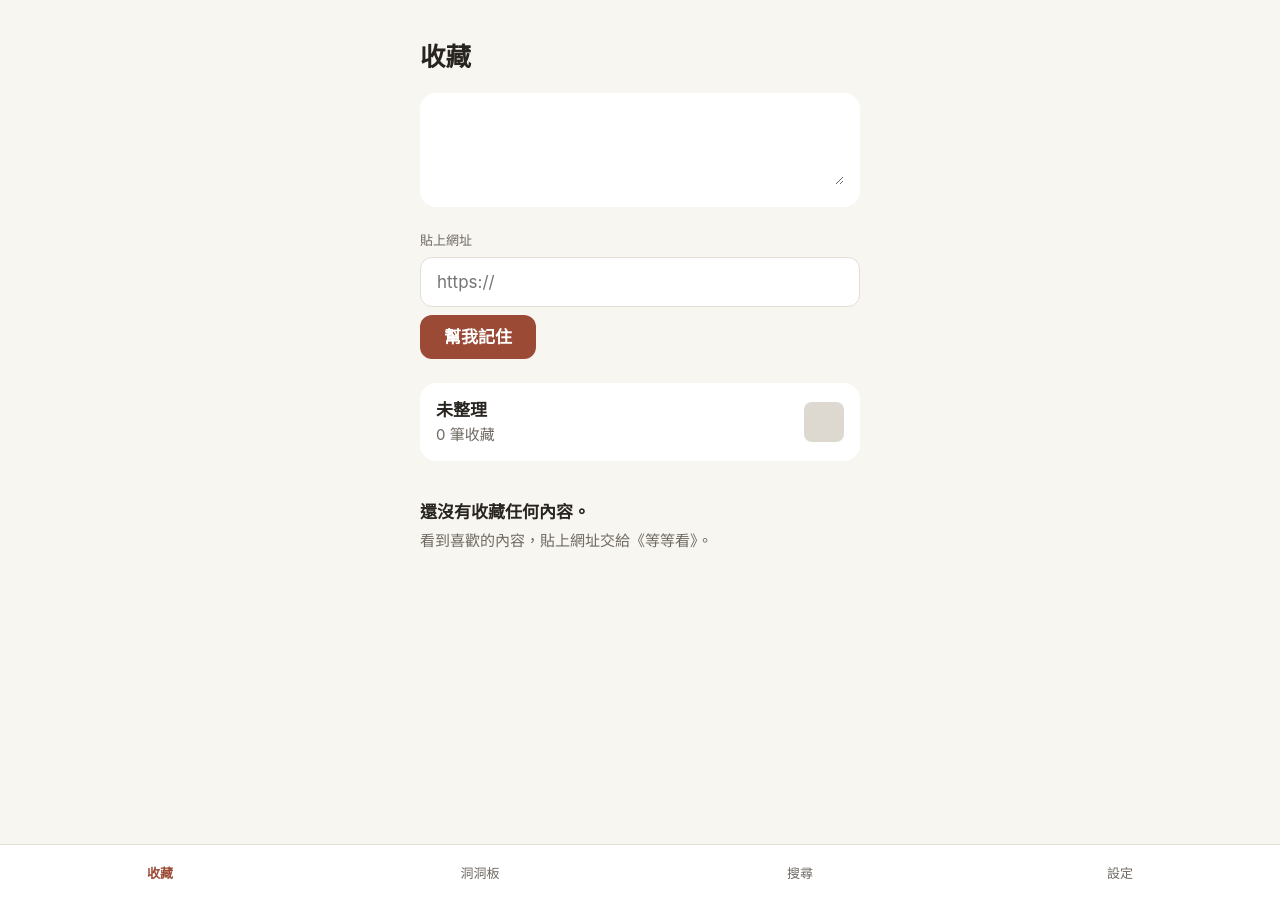
Scenario: Category collection list flow › only lists bookmarks whose categoryId matches the opened category
Check: the text "0 筆收藏" is shown, box [436,425,495,445]
Type "https://example.com/only-in-unorganized" into the field labelled "貼上網址" at (640, 282), box [420,257,860,307]
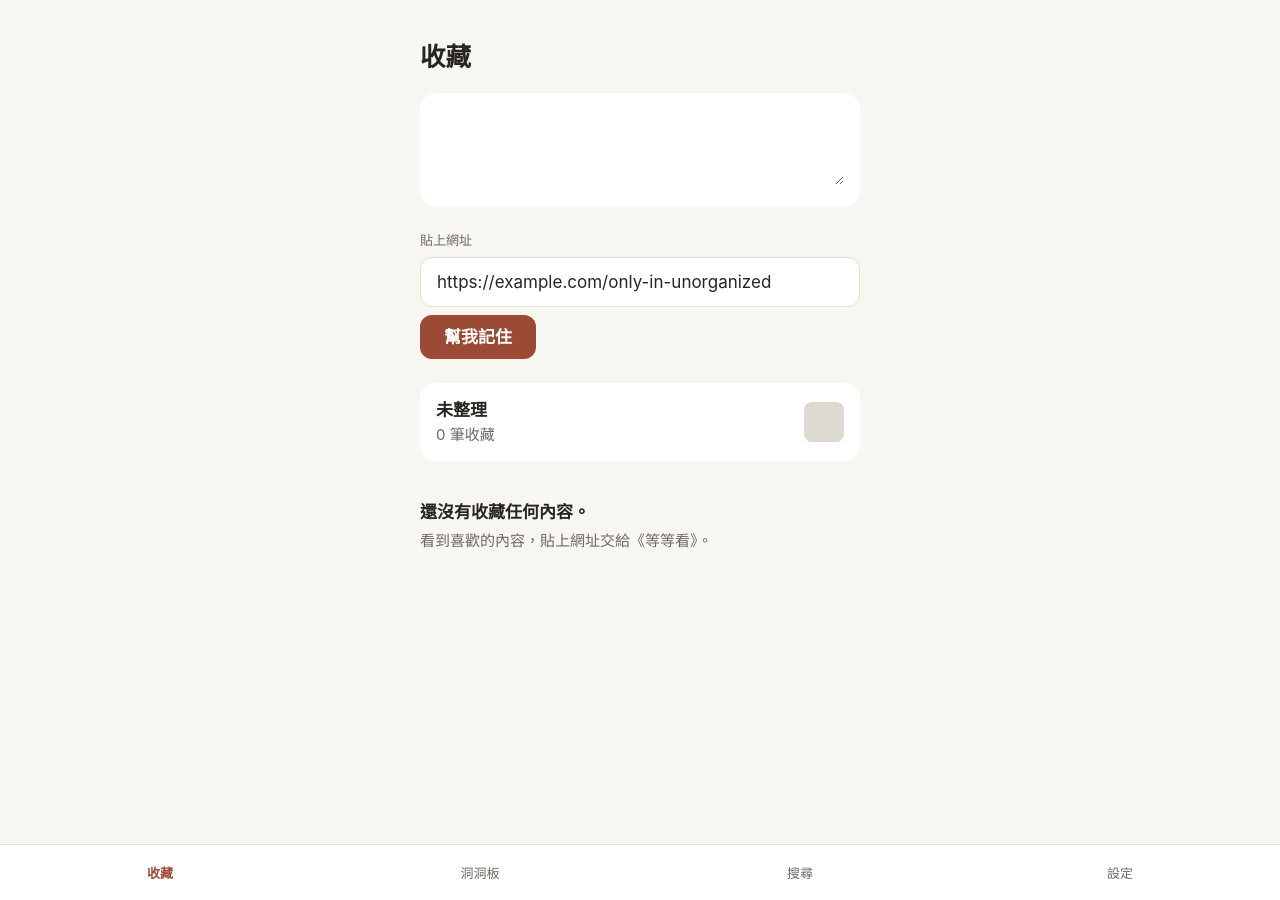
Click the button "幫我記住" at (478, 337), box [420,315,536,359]
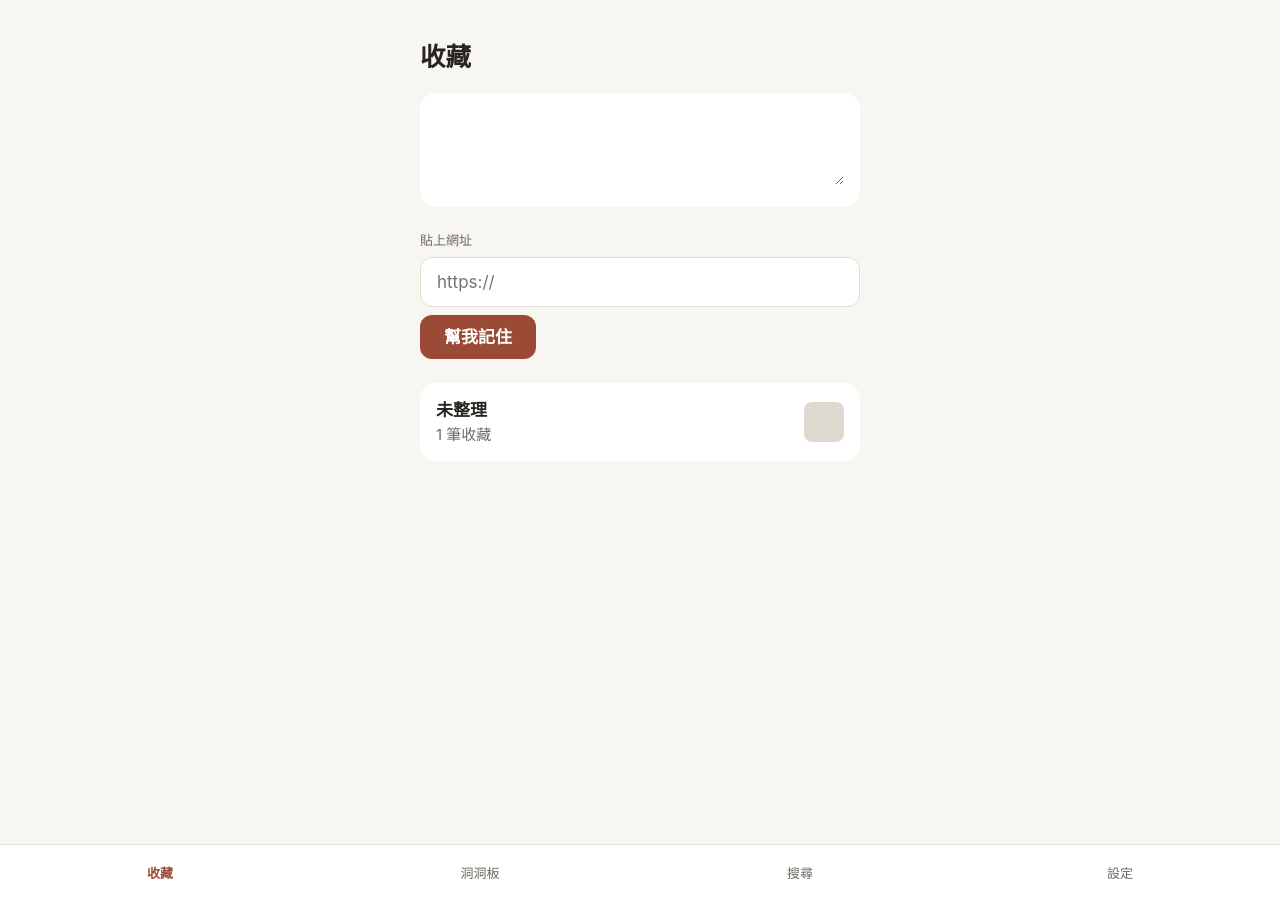
Check: the text "1 筆收藏" is shown, box [436,425,491,445]
Click the link "未整理 1 筆收藏" at (462, 410), box [420,383,860,461]
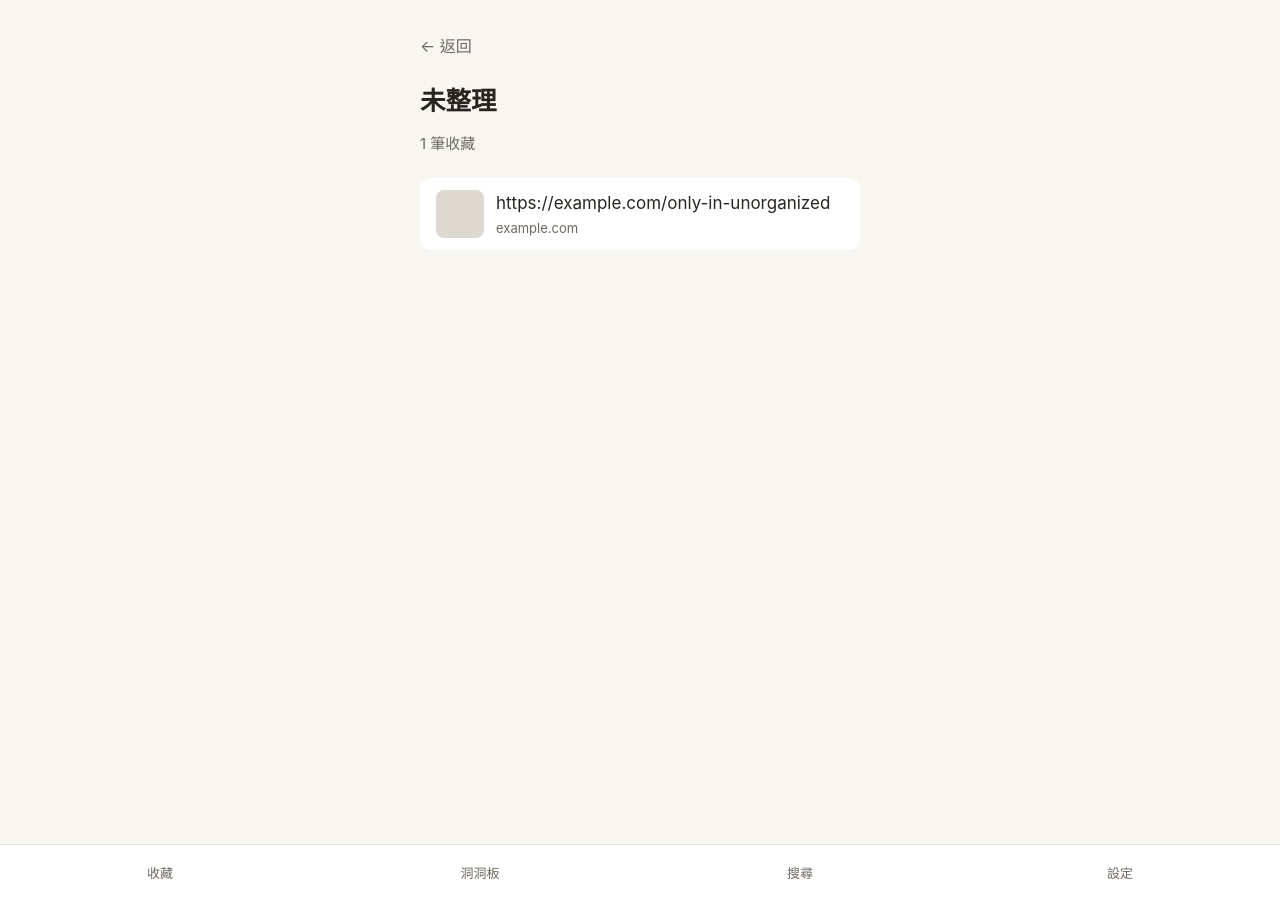
Check: the heading "未整理" is shown, box [420,85,496,116]
Check: the text "https://example.com/only-in-unorganized" is shown, box [496,191,830,215]
